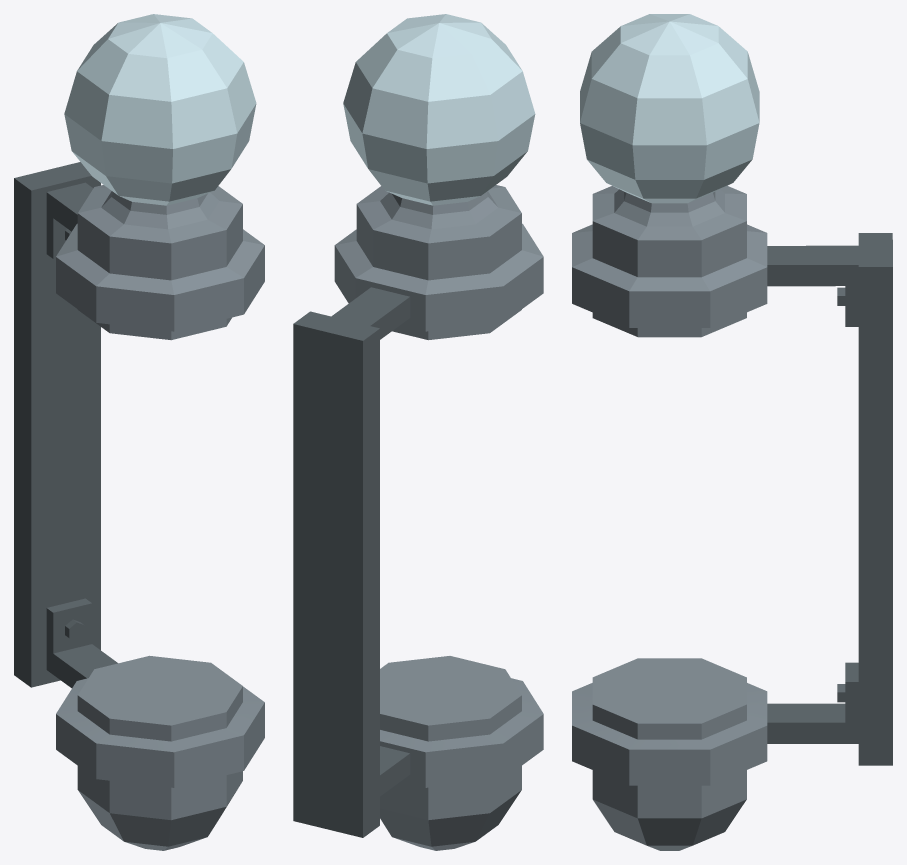
Rendered from SM_Prop_Barber_Poles_01.obj.
3 views of the same model, side by side, from view 1: azimuth 30°, elevation 25°; view 2: azimuth 150°, elevation 25°; view 3: azimuth 270°, elevation 25° (orthographic).
Parts seen in each view (by area): view 1: SM_Prop_Barber_Poles_01_0; view 2: SM_Prop_Barber_Poles_01_0; view 3: SM_Prop_Barber_Poles_01_0.
Part boxes in pixels (box(x1,y1,x2,y2)): SM_Prop_Barber_Poles_01_0: box(14, 14, 264, 850); SM_Prop_Barber_Poles_01_0: box(293, 14, 543, 850); SM_Prop_Barber_Poles_01_0: box(572, 14, 892, 850).
Size of the model in its own units: 0.4204 by 1.95 by 0.6906.
Materials: 1 (1 with a texture image).
